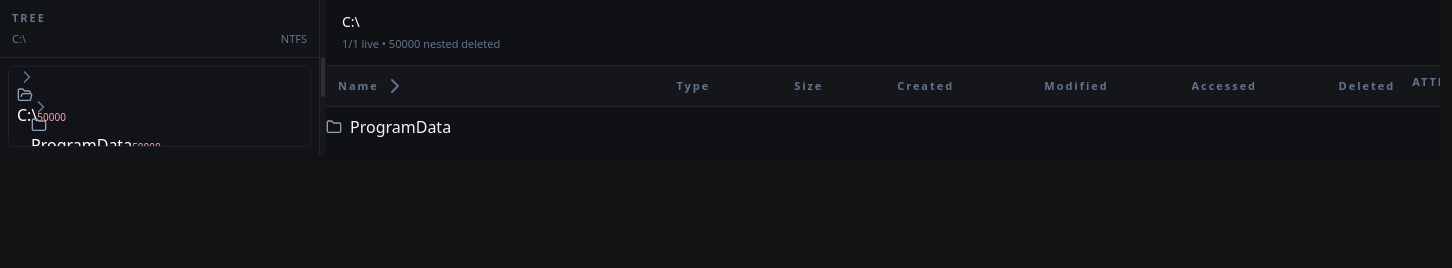
Test: SourceBrowser rendering stability › keeps recursive deleted tree counts separate from direct deleted pages
Expected: the 1st text "50000" is shown, [37,110,66,124]
Expected: the element with test id "tree-entry-row" shows "50000", [31,117,161,146]
Click the button with test id "tree-open" showing "ProgramData50000" at {"x": 96, "y": 137}, box [31,117,161,157]
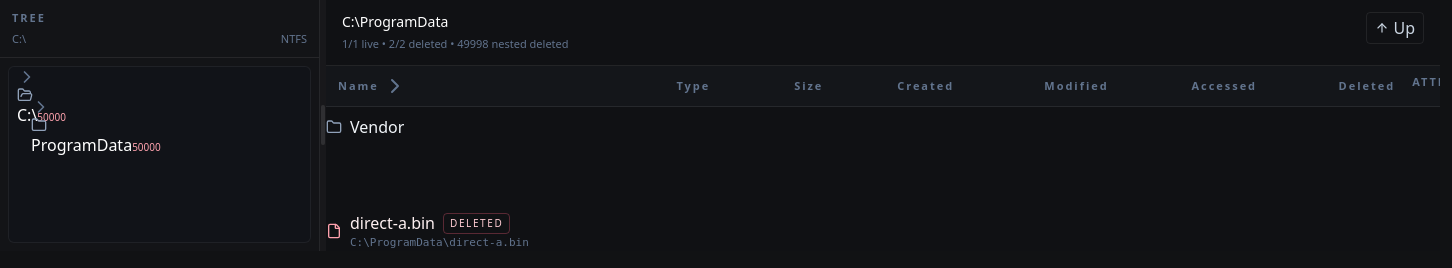
Now the text "C:\\ProgramData" is shown, box [342,12,448,31]
Now the text with test id "browser-status" shows "2/2 deleted", box [342,36,568,51]
Now the text "direct-a.bin" is shown, box [350,210,435,234]
